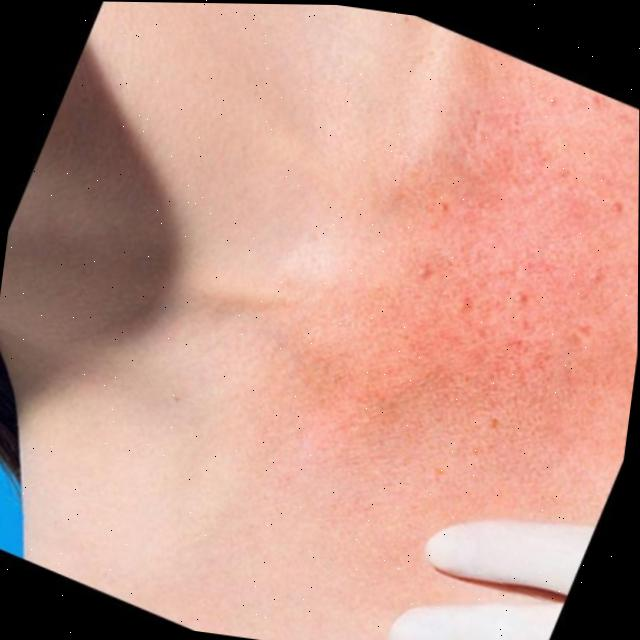Eczema: (274, 124, 627, 494)
